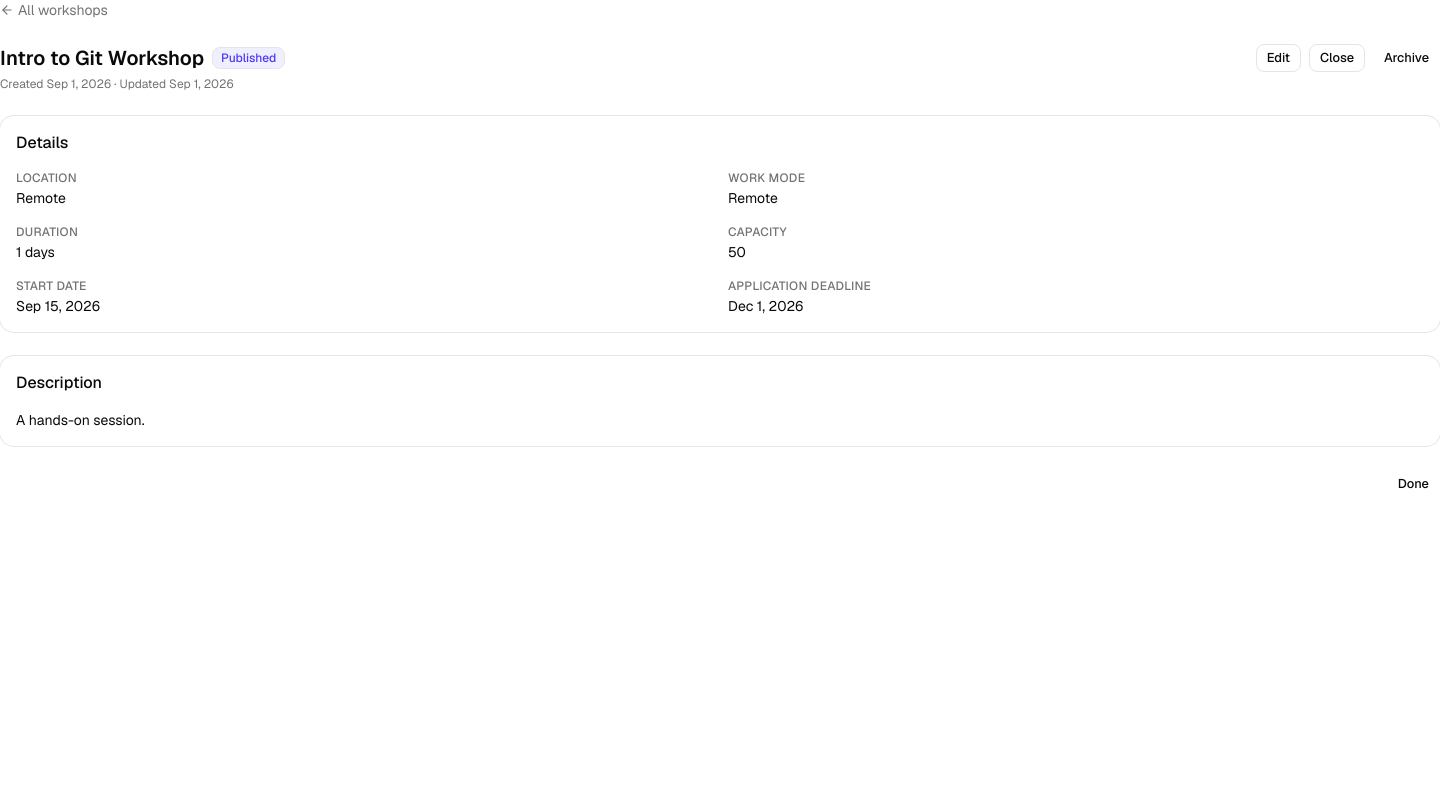
WorkshopDetailView › archives a published workshop via the confirmation dialog
The width and height of the screenshot is (1440, 810).
expect the heading "Intro to Git Workshop" is shown: met, box [0,44,204,72]
Click the button "Archive" at (1406, 58), box [1373,44,1439,72]
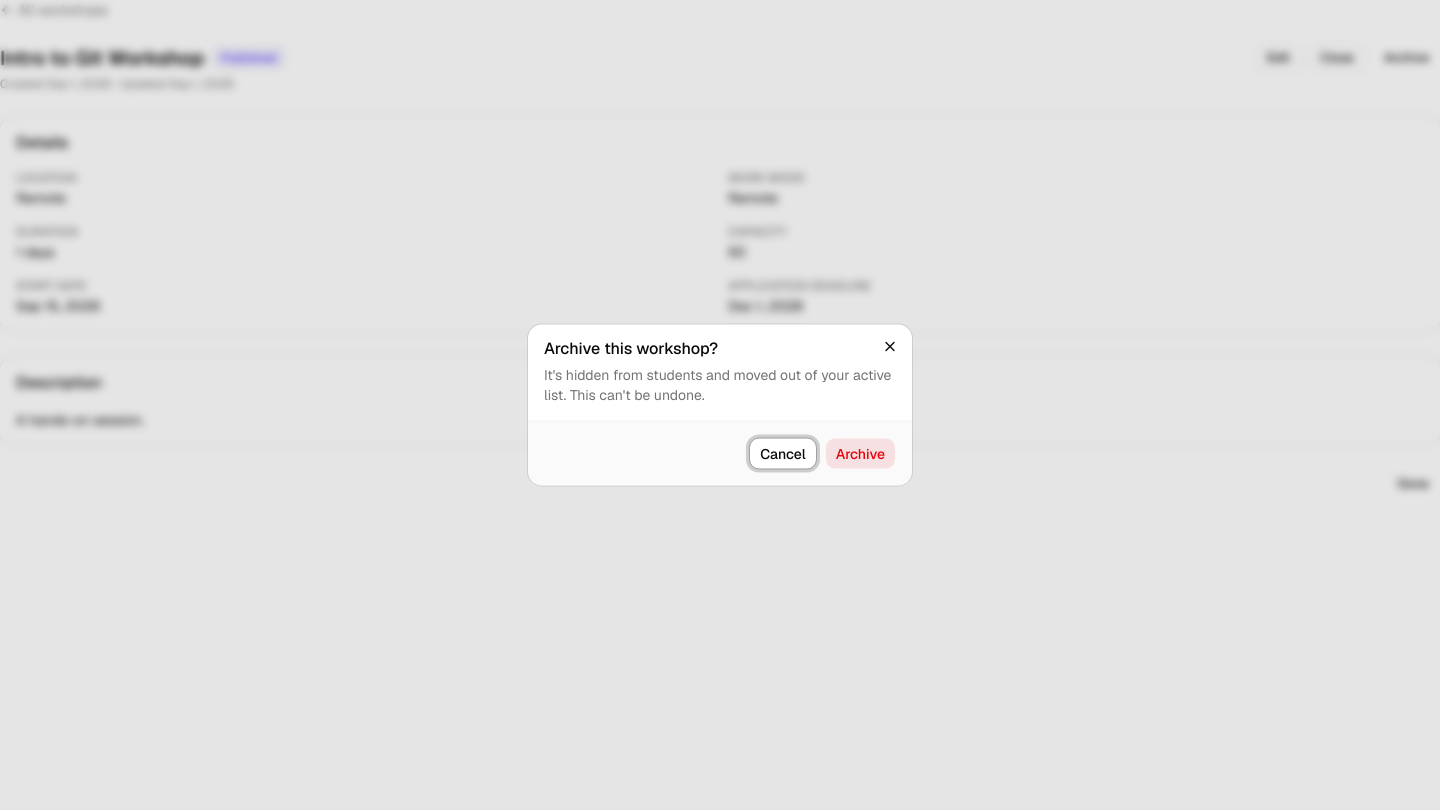
Click the button "Archive" at (860, 454), box [825,438,896,470]
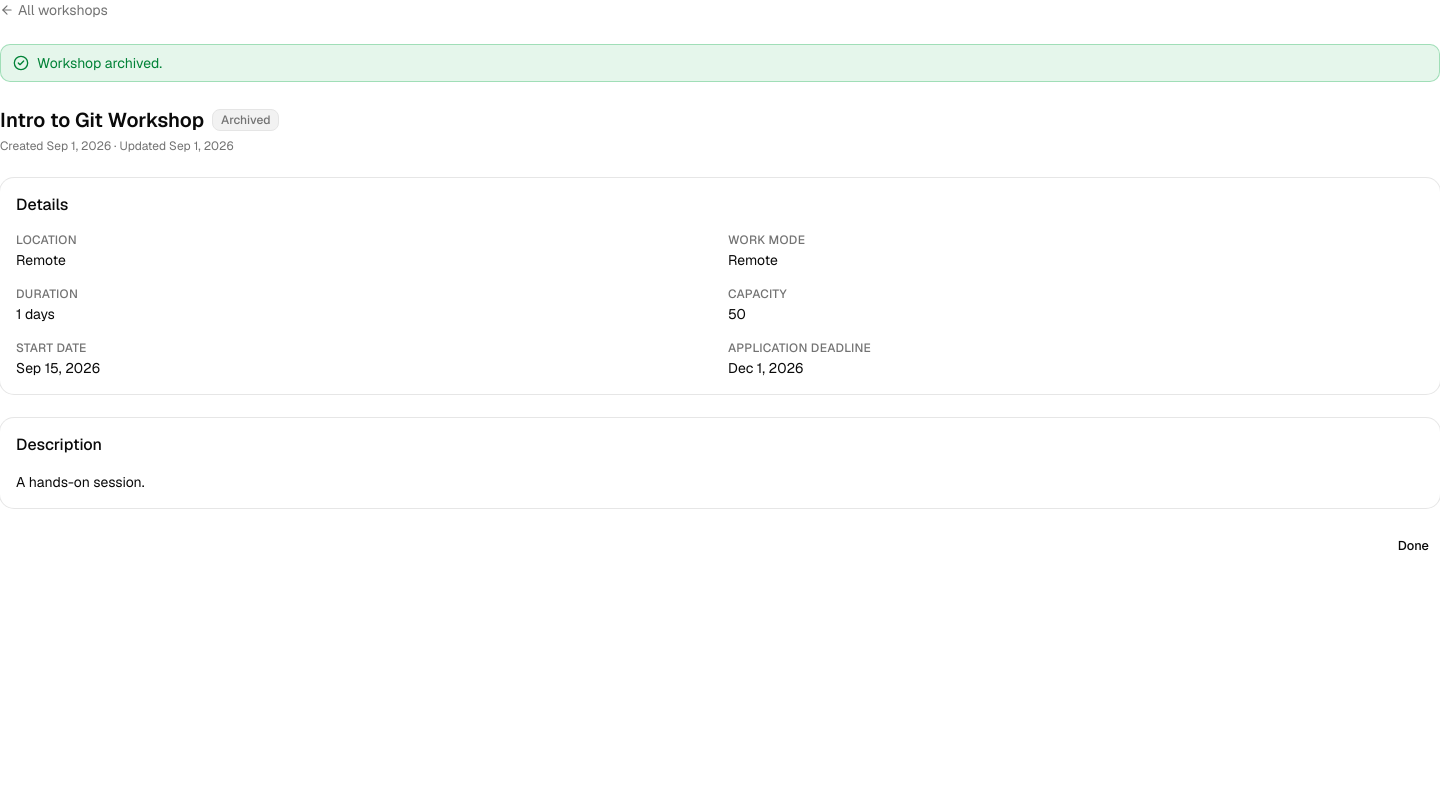
expect the text "Workshop archived." is shown: met, box [37,53,162,73]
